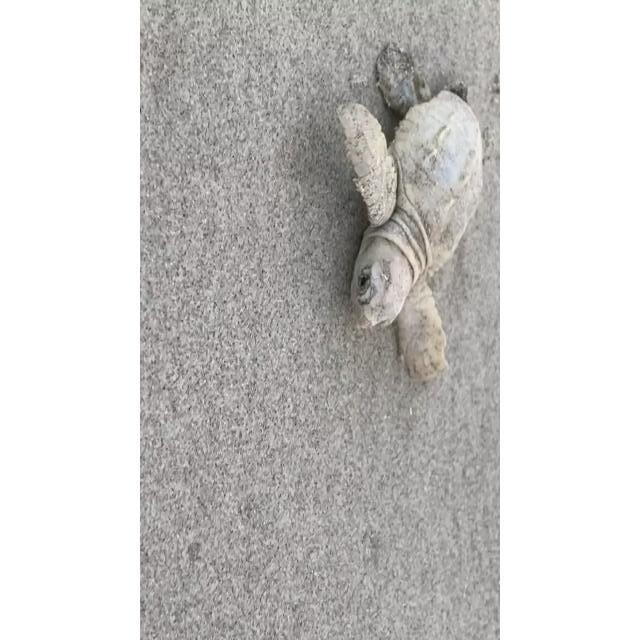turtle: (335, 45, 484, 380)
